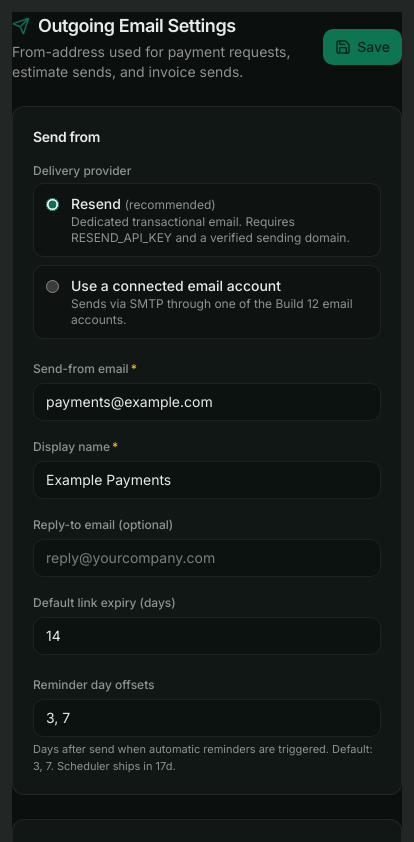
it: OutgoingEmailEditor — payment-link kind › disables Save until a field is edited
The width and height of the screenshot is (414, 842).
Check: the button "Save" is disabled, box left=323, top=29, right=402, bottom=65
Replace the text in the field showing "payments@example.com" below "Send-from email" with "new@example.com" at (207, 402), box left=33, top=383, right=381, bottom=421
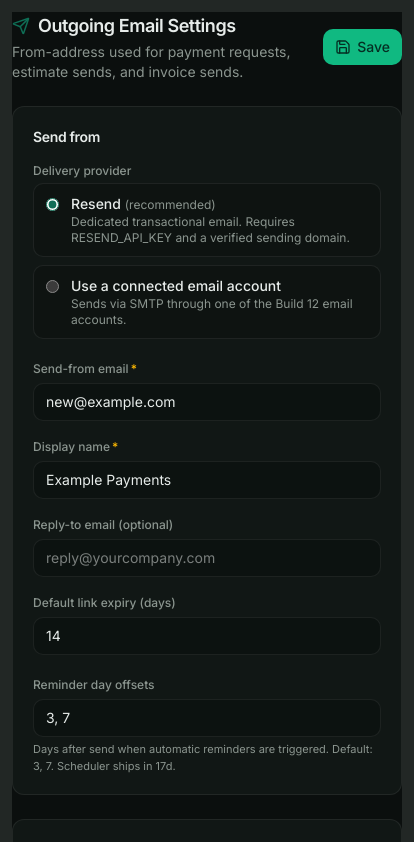
Check: the button "Save" is enabled, box left=323, top=29, right=402, bottom=65
